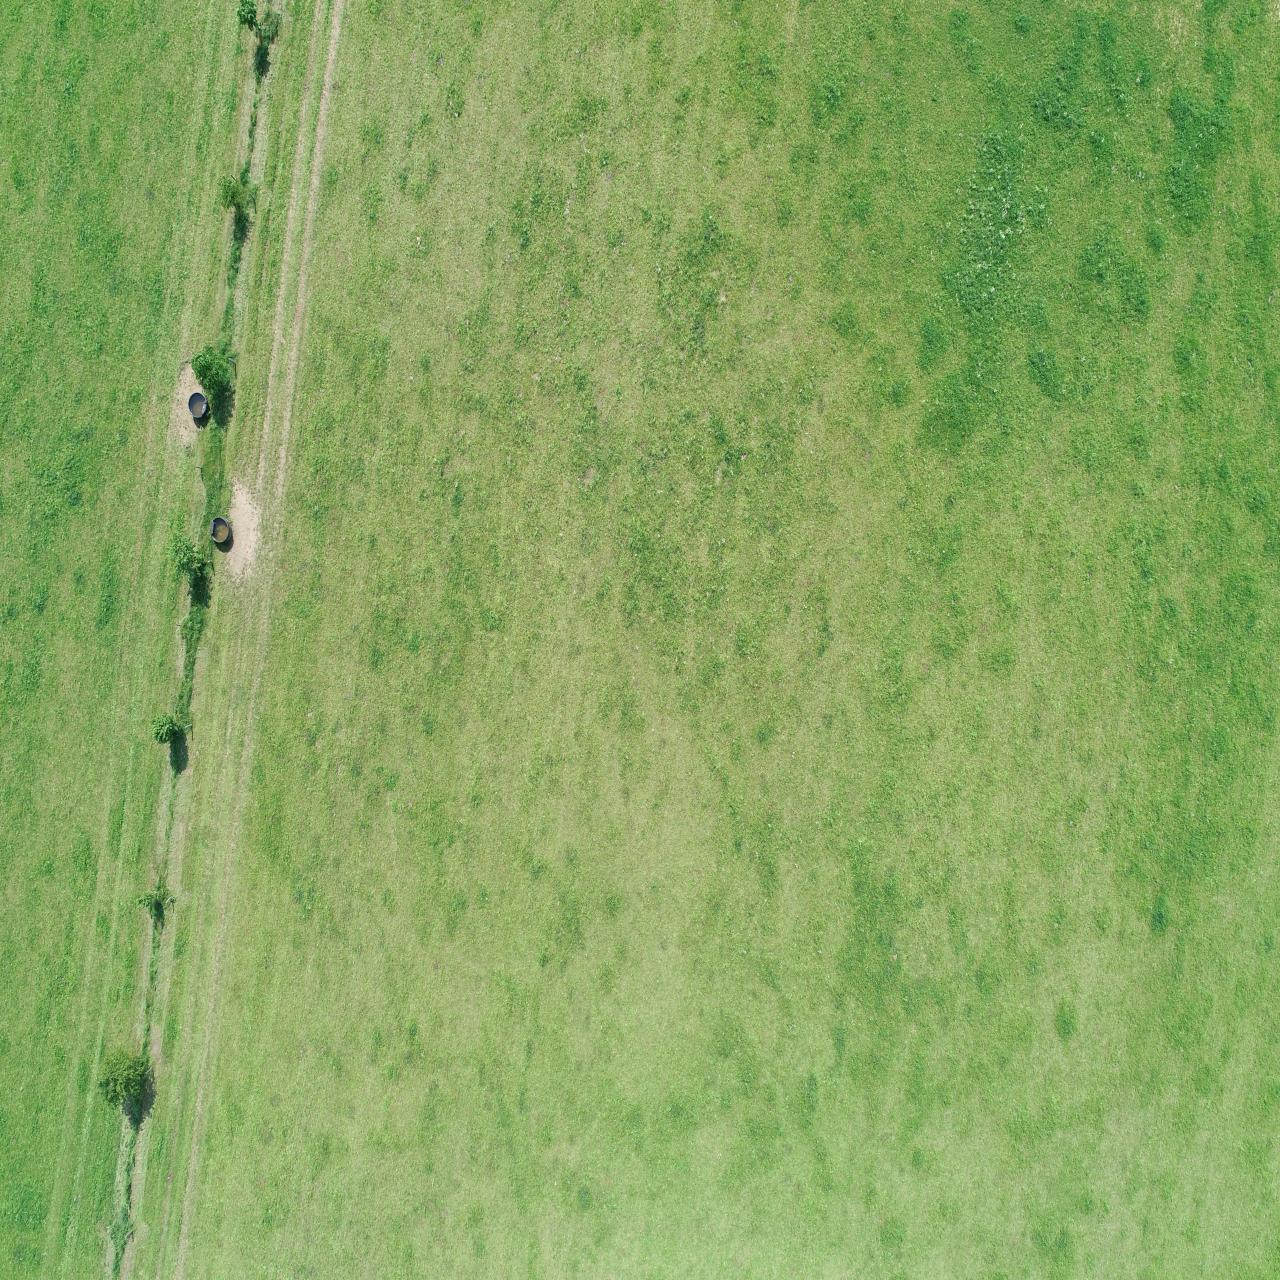cow: (496, 367, 529, 427), (463, 920, 485, 1001)
